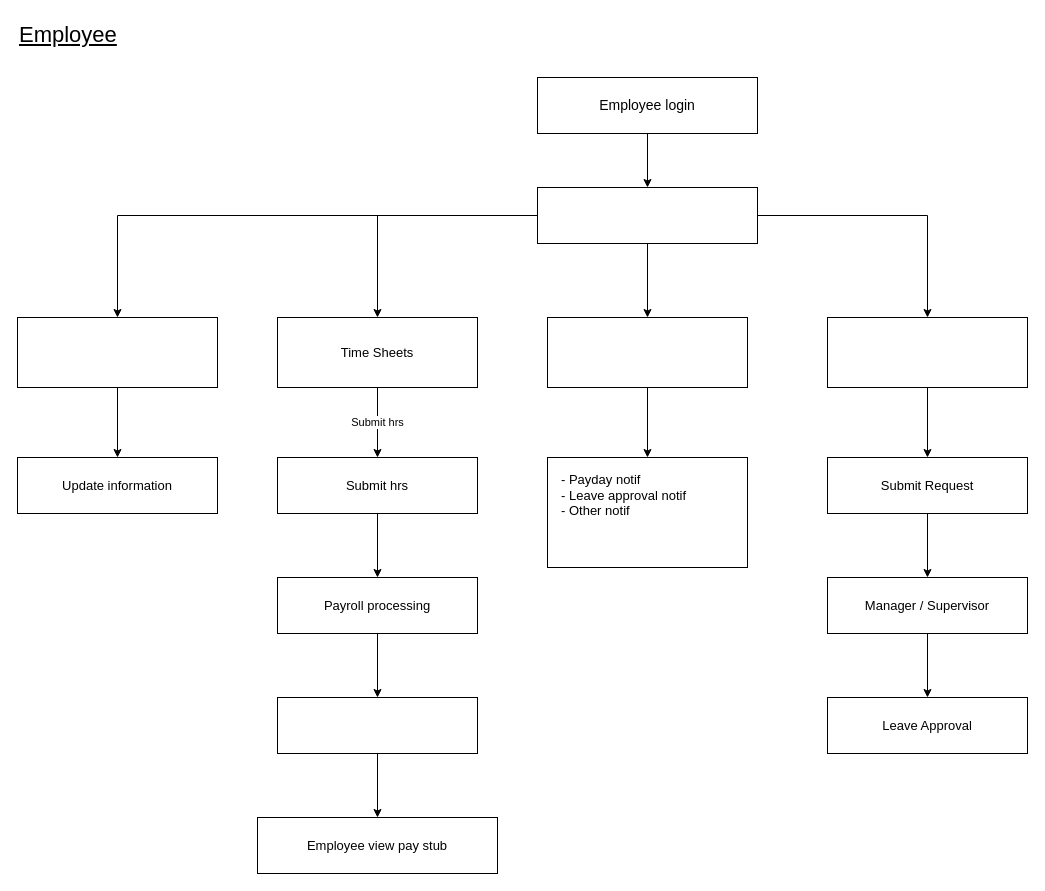
Some shapes in this 1045 by 891 pixel diagram are drawn without their labels. The centre of each missing label's shape, as x and y in pixels:
"Leave Request" belongs at pixel 927 352.
"Notification" belongs at pixel 647 352.
"Pay Stub" belongs at pixel 377 725.
"Personal Information" belongs at pixel 117 352.
"Self Service portal" belongs at pixel 647 215.
